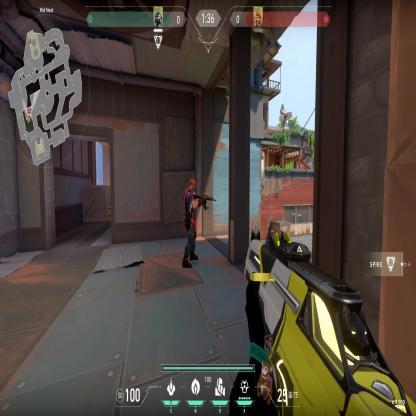enemy: (182, 178, 208, 270)
